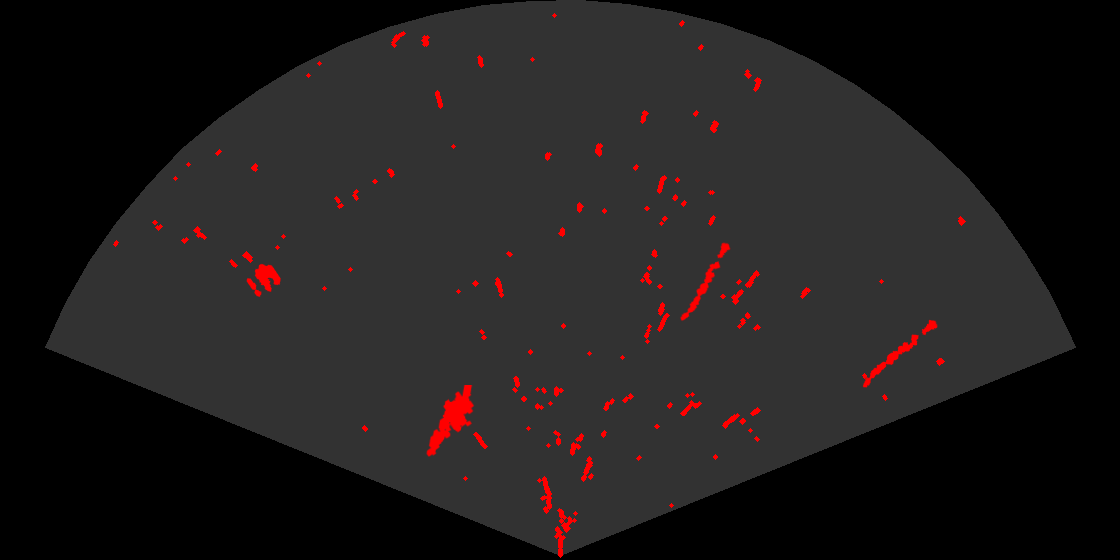ball: (245, 262, 282, 299)
chain: (861, 318, 939, 389), (679, 241, 732, 323)
frogman: (425, 385, 476, 458)
